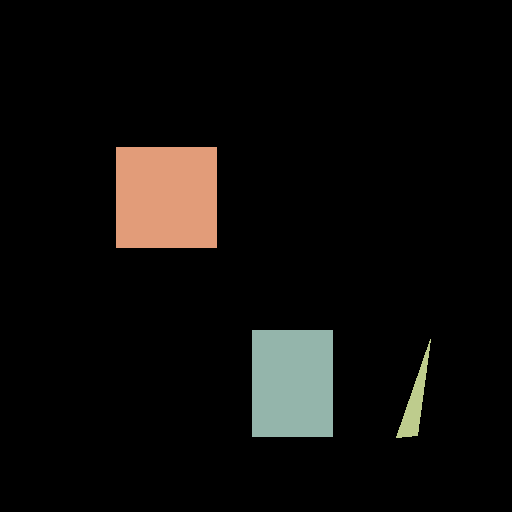rectangle: (252, 330, 332, 436)
square: (116, 147, 216, 247)
triangle: (396, 339, 430, 437)
